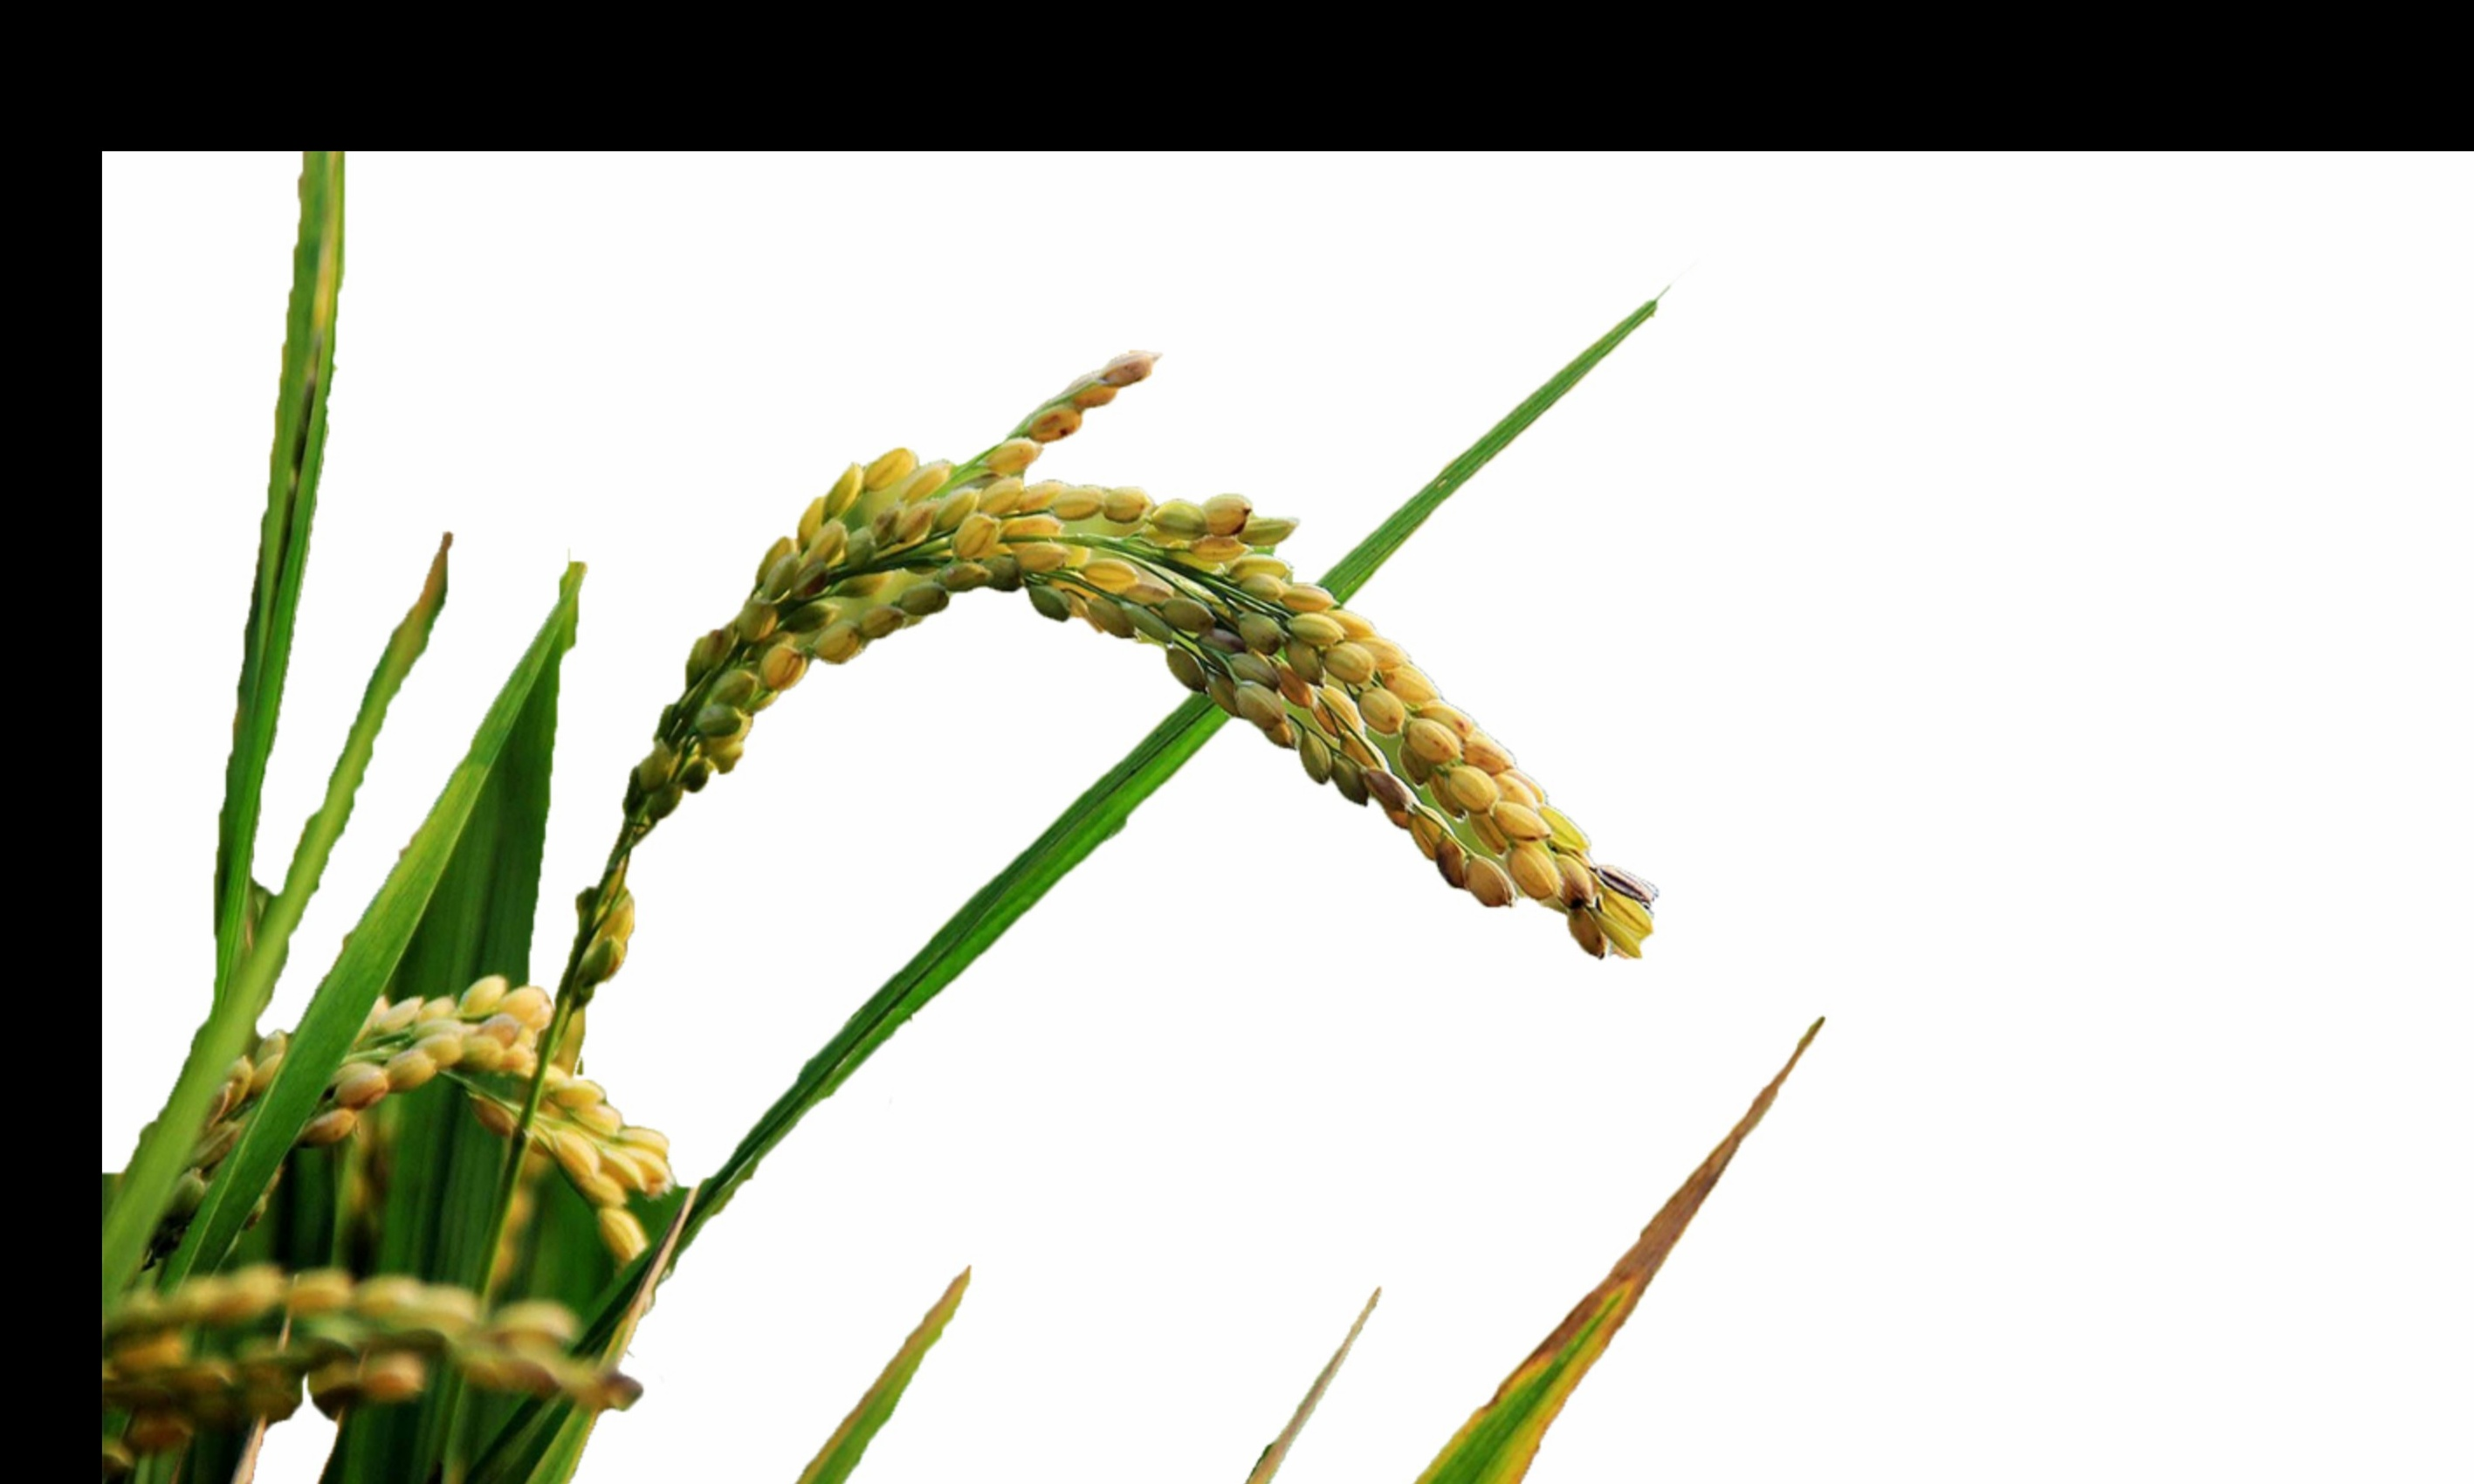rice: (540, 309, 1681, 1056)
